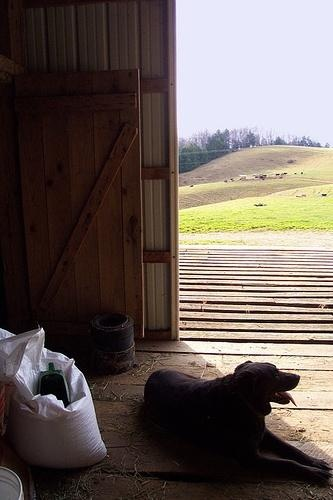dog: (142, 360, 333, 487)
